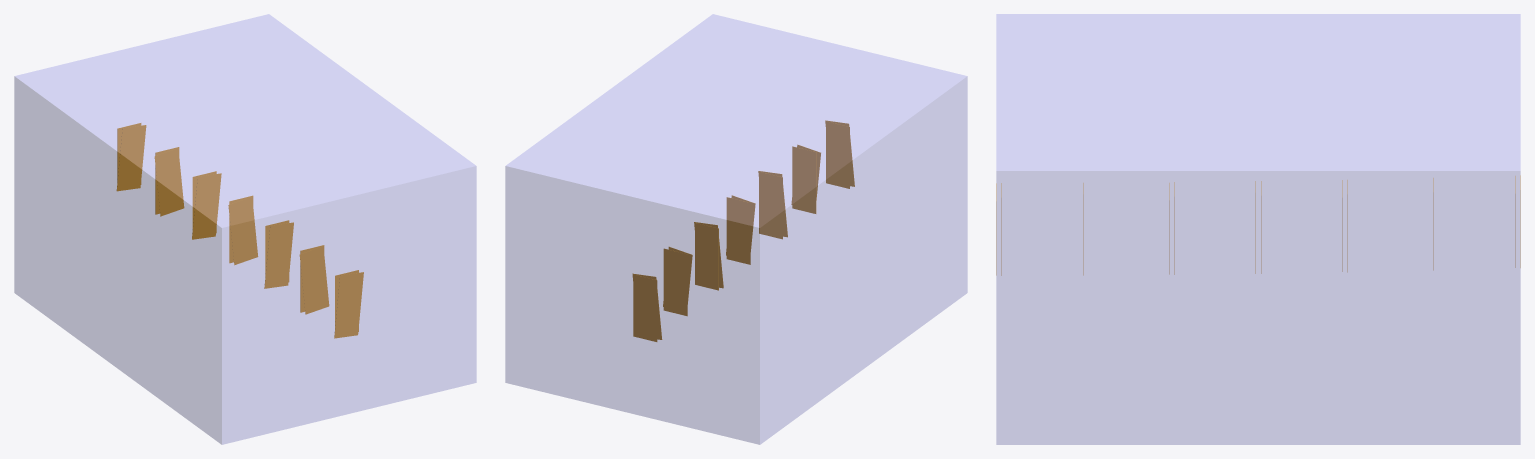
The model's file is ldmx_v14.gltf.
3 views of the same model, side by side, from view 1: azimuth 30°, elevation 25°; view 2: azimuth 150°, elevation 25°; view 3: azimuth 270°, elevation 25° (orthographic). The views are drawn at different scales.
Parts seen in each view (by area): view 1: tagger_PV0x1af5d50, tagger_active_sensor0x1760540 (×3), tagger_sensor_vol_PV0x19b8ab0, tagger_sensor_vol_PV0x19b8ea0, tagger_sensor_vol_PV0x1760a60, tagger_sensor_vol_PV0x1760bc0, tagger_sensor_vol_PV0x1760630, tagger_sensor_vol_PV0x19b8ca0, tagger_sensor_vol_PV0x1760900; view 2: tagger_PV0x1af5d50, tagger_active_sensor0x1760540 (×5), tagger_sensor_vol_PV0x17605a0, tagger_sensor_vol_PV0x19b8b80, tagger_sensor_vol_PV0x19b8910, tagger_sensor_vol_PV0x19b8d50, tagger_sensor_vol_PV0x1760980, tagger_sensor_vol_PV0x1760ae0, tagger_sensor_vol_PV0x1760700; view 3: tagger_PV0x1af5d50.
Boxes of the visible parts, x1=… form: tagger_PV0x1af5d50: x1=14, y1=14, x2=476, y2=444; tagger_active_sensor0x1760540 (×3): x1=192, y1=174, x2=328, y2=313; tagger_sensor_vol_PV0x19b8ab0: x1=334, y1=272, x2=363, y2=338; tagger_sensor_vol_PV0x19b8ea0: x1=264, y1=222, x2=293, y2=288; tagger_sensor_vol_PV0x1760a60: x1=154, y1=148, x2=184, y2=216; tagger_sensor_vol_PV0x1760bc0: x1=116, y1=125, x2=146, y2=191; tagger_sensor_vol_PV0x1760630: x1=228, y1=197, x2=257, y2=264; tagger_sensor_vol_PV0x19b8ca0: x1=299, y1=246, x2=329, y2=314; tagger_sensor_vol_PV0x1760900: x1=192, y1=173, x2=221, y2=239; tagger_PV0x1af5d50: x1=505, y1=14, x2=967, y2=444; tagger_active_sensor0x1760540 (×5): x1=634, y1=148, x2=815, y2=341; tagger_sensor_vol_PV0x17605a0: x1=726, y1=197, x2=750, y2=264; tagger_sensor_vol_PV0x19b8b80: x1=792, y1=146, x2=816, y2=213; tagger_sensor_vol_PV0x19b8910: x1=826, y1=121, x2=849, y2=188; tagger_sensor_vol_PV0x19b8d50: x1=759, y1=171, x2=782, y2=239; tagger_sensor_vol_PV0x1760980: x1=663, y1=248, x2=687, y2=315; tagger_sensor_vol_PV0x1760ae0: x1=633, y1=274, x2=657, y2=341; tagger_sensor_vol_PV0x1760700: x1=695, y1=223, x2=718, y2=290; tagger_PV0x1af5d50: x1=996, y1=14, x2=1520, y2=444.
Bounding box in the file's own units: 43 × 35 × 60.7.
